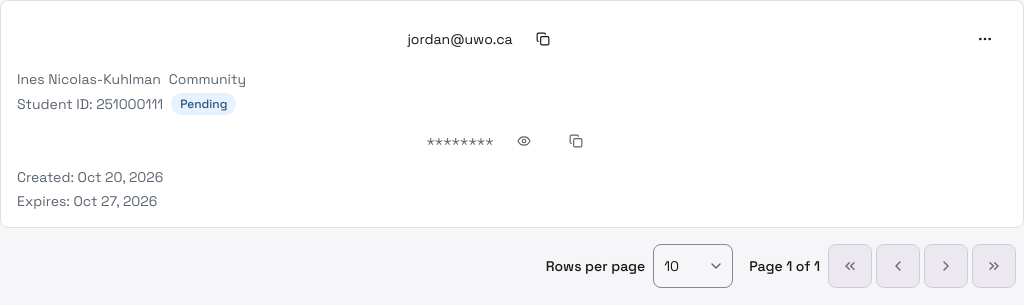
Test: InvitationsTable on a phone › renders the actions menu on each card, with 44 px targets, and it opens
The image size is (1024, 305).
Click the button named "actions for invitation to jordan@uwo.ca": [985, 39] box [963,17,1007,61]
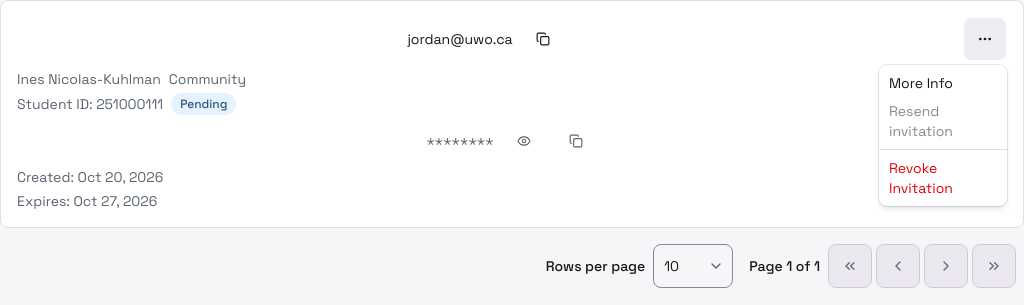
Now the menu item "More Info" is shown, box [889,74,953,92]
Now the menu item "Revoke Invitation" is shown, box [889,159,953,197]
